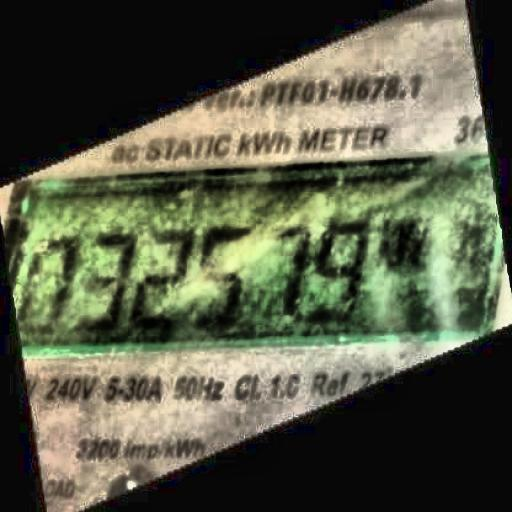DISPLAY_REGION: (0, 153, 506, 355)
SERIAL_REGION: (15, 214, 445, 337)
